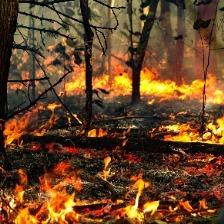incendio: (1, 49, 220, 219)
